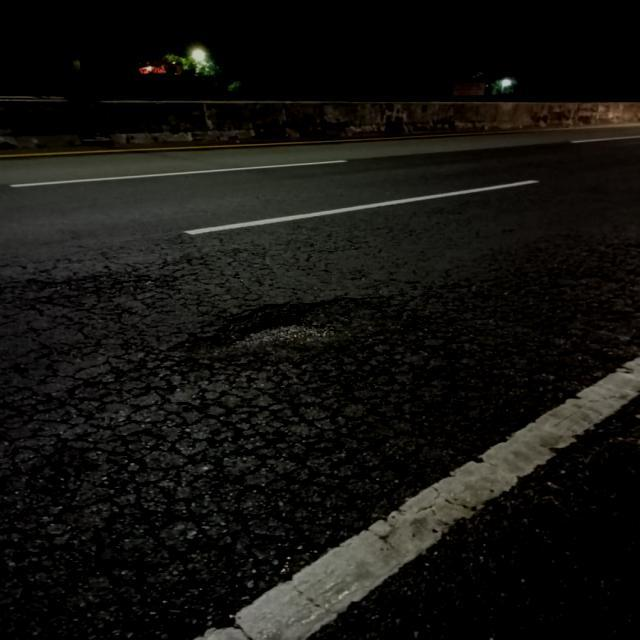Buraco: (160, 294, 397, 359)
